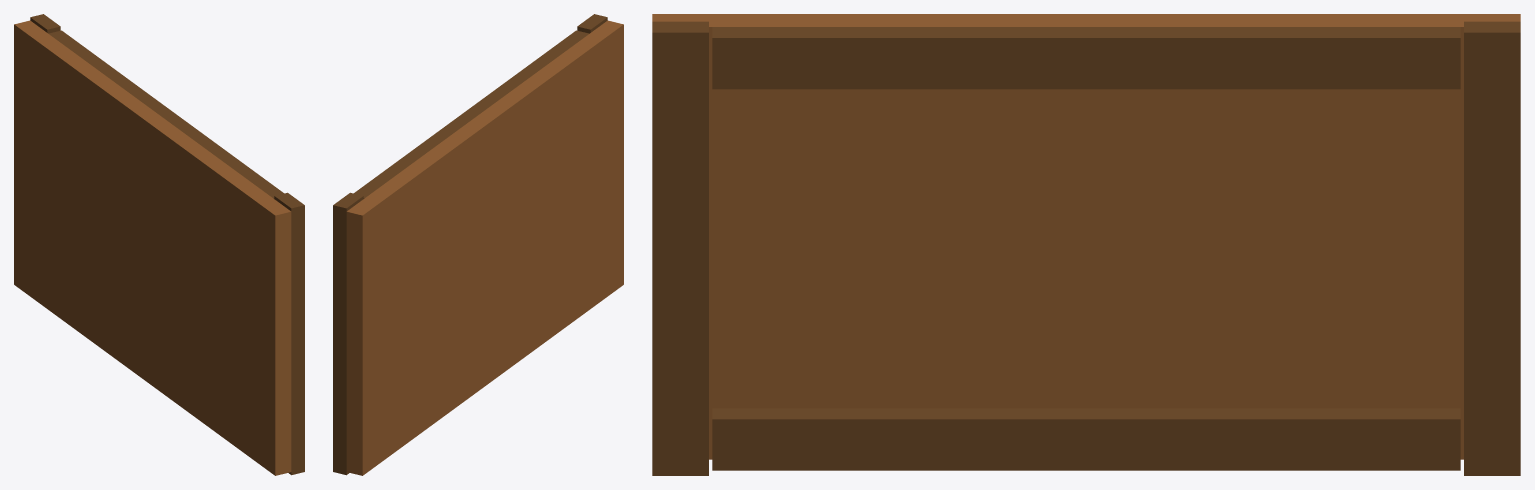
File: JobBoard.fbx
3 views of the same model, side by side, from view 1: azimuth 30°, elevation 25°; view 2: azimuth 150°, elevation 25°; view 3: azimuth 270°, elevation 25° (orthographic). The views are drawn at different scales.
Visible parts, largest first — view 1: SM_JobBoard; view 2: SM_JobBoard; view 3: SM_JobBoard.
Boxes of the visible parts, x1=… form: SM_JobBoard: x1=14, y1=14, x2=304, y2=475; SM_JobBoard: x1=333, y1=14, x2=623, y2=475; SM_JobBoard: x1=652, y1=14, x2=1520, y2=475.
Bounding box in the file's own units: 21.14 × 183 × 324.
